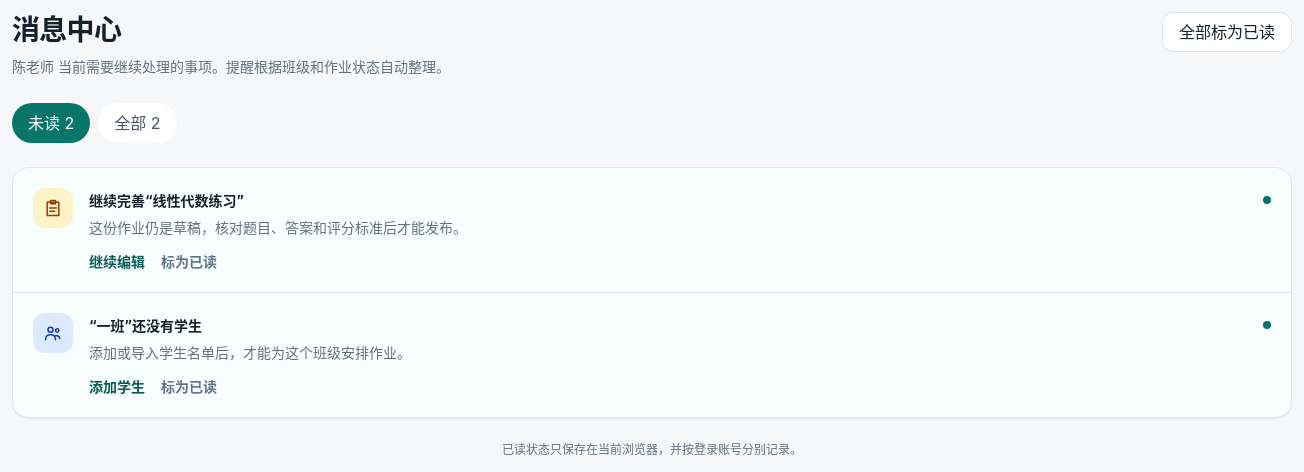
Test: builds specific actionable reminders and persists read state per account
Expected: the text "继续完善“线性代数练习”" is shown, x1=89 y1=192 x2=244 y2=209
Expected: the text "“一班”还没有学生" is shown, x1=89 y1=317 x2=202 y2=334
Click the button "标为已读" next to "继续编辑": point(189, 262) x1=161 y1=252 x2=217 y2=272
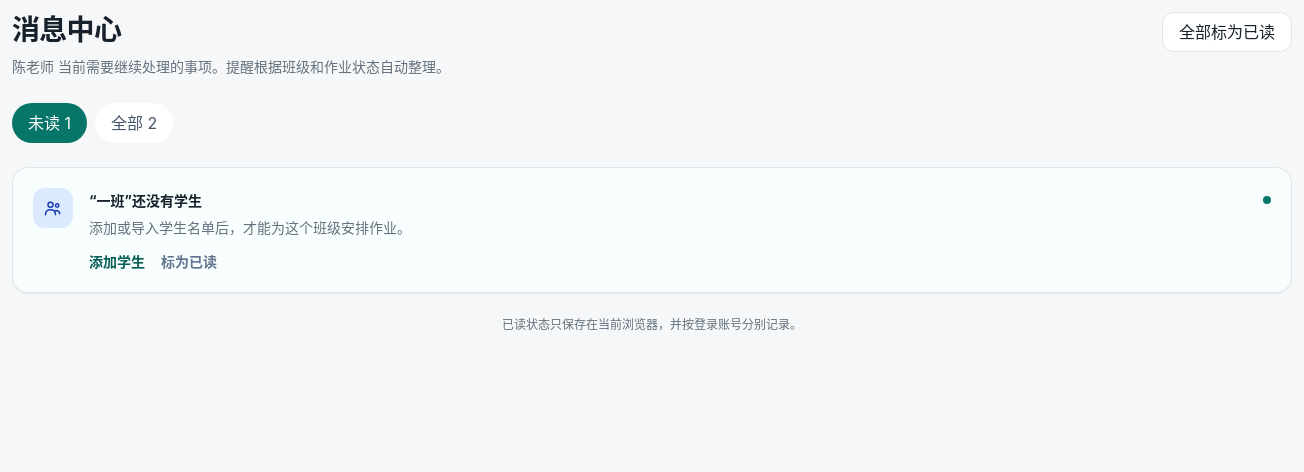
Expected: the button "未读 1" is shown, x1=12 y1=103 x2=87 y2=143
